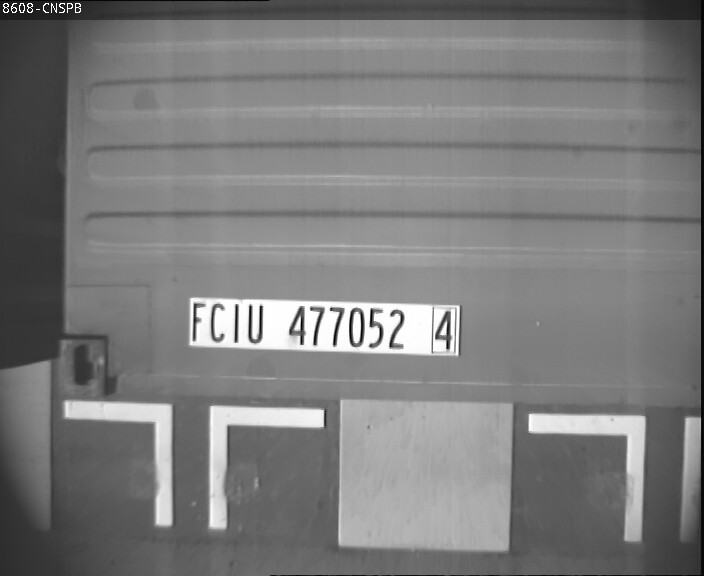groundmarker_1: (63, 398, 322, 528), (525, 414, 704, 543)
